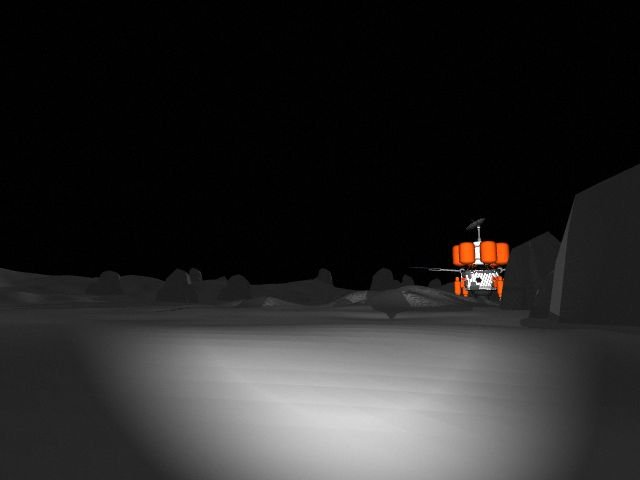homebase: (403, 214, 556, 307)
